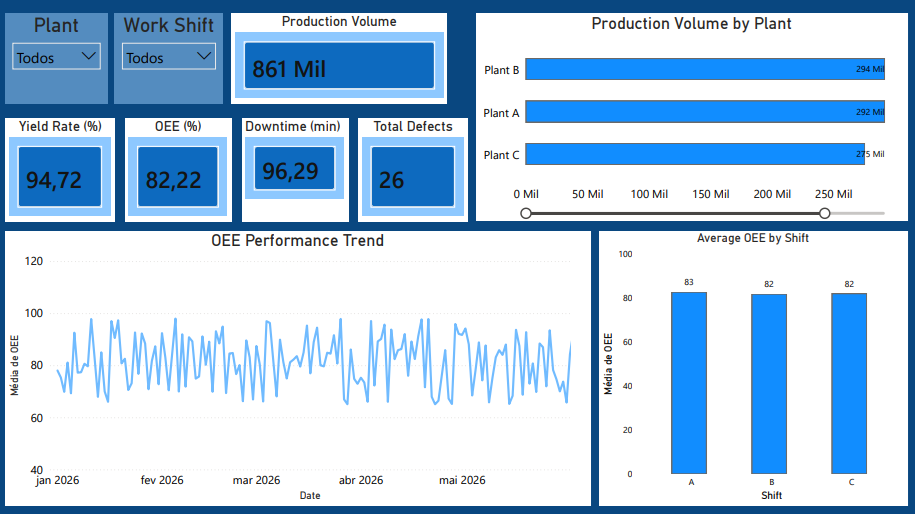

The dashboard page shown, as its layout file describes it:
{"tool":"powerbi","page":{"name":"1","canvas":[1280,720],"ordinal":0},"visuals":[{"type":"cardVisual","title":"Production Volume","fields":{"Data":["Sum(Sheet1.Production)"]},"box":[325.7,20,301.4,125.7],"z":0},{"type":"cardVisual","title":"Downtime (min)","fields":{"Data":["Avg(Sheet1.Downtime_min)"]},"box":[340,165.7,148.6,144.3],"z":1000},{"type":"cardVisual","title":"Yield Rate (%)","fields":{"Data":["Avg(Sheet1.Yield)"]},"box":[10,165.7,152.9,144.3],"z":2000},{"type":"cardVisual","title":"Total Defects","fields":{"Data":["Avg(Sheet1.Defects)"]},"box":[502.9,165.7,152.9,144.3],"z":3000},{"type":"cardVisual","title":"OEE (%)","fields":{"Data":["Avg(Sheet1.OEE)"]},"box":[177.1,165.7,148.6,144.3],"z":4000},{"type":"barChart","title":"Production Volume by Plant","fields":{"Category":["Sheet1.Plant"],"Y":["Sum(Sheet1.Production)"]},"box":[667.1,20,602.9,290],"z":5000},{"type":"lineChart","title":"OEE Performance Trend","fields":{"Category":["Sheet1.Date"],"Y":["Avg(Sheet1.OEE)"]},"box":[10,322.9,817.1,384.3],"z":6000},{"type":"slicer","title":"Plant","fields":{"Values":["Sheet1.Plant"]},"box":[10,20,142.9,125.7],"z":7000},{"type":"slicer","title":"Work Shift","fields":{"Values":["Sheet1.Shift"]},"box":[162.9,20,151.4,125.7],"z":8000},{"type":"columnChart","title":"Average OEE by Shift","fields":{"Category":["Sheet1.Shift"],"Y":["Avg(Sheet1.OEE)"]},"box":[838.6,322.9,431.4,384.3],"z":9000}]}

Visuals, with their boxes in screenshot pixels (x1, y1, x2, y2), scaled from the page's 1280x720 canvas onto the 915x514 screenshot:
"Production Volume" cardVisual: [left=233, top=14, right=448, bottom=104]
"Downtime (min)" cardVisual: [left=243, top=118, right=349, bottom=221]
"Yield Rate (%)" cardVisual: [left=7, top=118, right=116, bottom=221]
"Total Defects" cardVisual: [left=359, top=118, right=469, bottom=221]
"OEE (%)" cardVisual: [left=127, top=118, right=233, bottom=221]
"Production Volume by Plant" barChart: [left=477, top=14, right=908, bottom=221]
"OEE Performance Trend" lineChart: [left=7, top=231, right=591, bottom=505]
"Plant" slicer: [left=7, top=14, right=109, bottom=104]
"Work Shift" slicer: [left=116, top=14, right=225, bottom=104]
"Average OEE by Shift" columnChart: [left=599, top=231, right=908, bottom=505]
